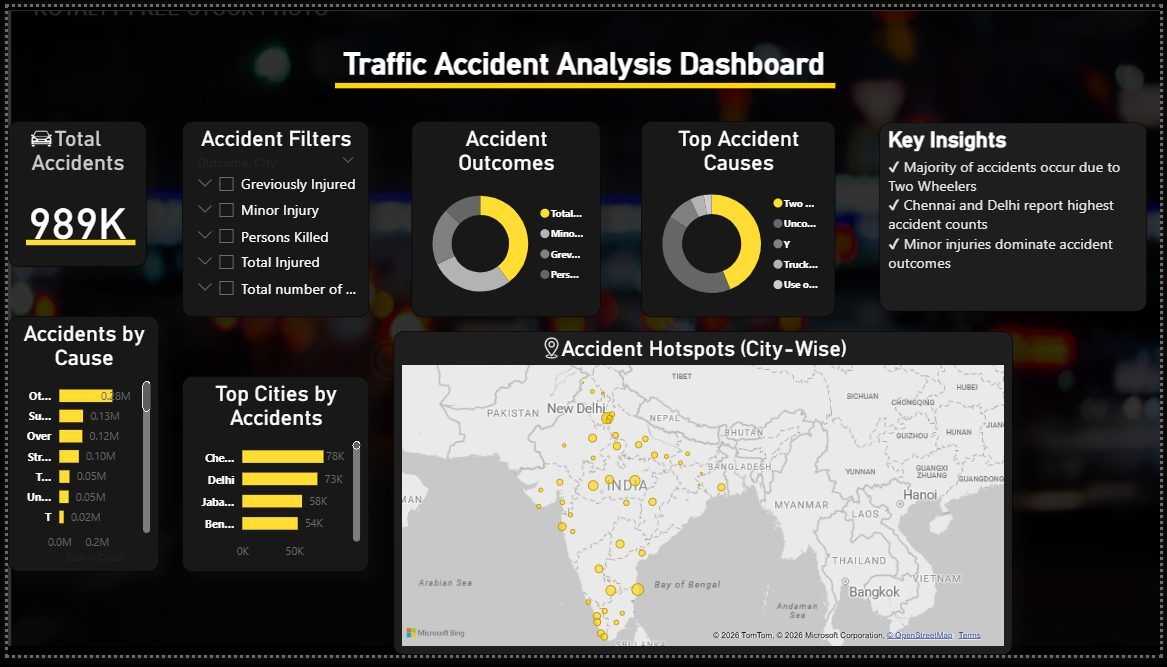

The page's visual inventory and layout, read from the dashboard file:
{"tool":"powerbi","page":{"name":"Page 1","canvas":[1280,720],"ordinal":0},"visuals":[{"type":"card","title":"Total Accidents","fields":{"Values":["Sum(df.Count)"]},"box":[0,126,154,162],"z":0},{"type":"slicer","title":"Accident Filters","fields":{"Values":["df.Outcome","df.City"]},"box":[194,126,208,218],"z":1000},{"type":"clusteredBarChart","title":"Top Cities by Accidents","fields":{"Category":["df.City"],"Y":["Sum(df.Count)"]},"box":[194,410,208,218],"z":2000},{"type":"donutChart","title":"Accident Outcomes","fields":{"Category":["df.Outcome"],"Y":["Sum(df.Count)"]},"box":[448,126,210,218],"z":3000},{"type":"clusteredBarChart","title":"Accidents by Cause","fields":{"Category":["df.Cause Subcategory"],"Y":["Sum(df.Count)"]},"box":[0,344,168,284],"z":4000},{"type":"map","title":"Accident Hotspots (City-Wise)","fields":{"Category":["df.City"],"Size":["Sum(df.Count)"]},"box":[428,360,688,360],"z":5000},{"type":"shape","box":[364,44,556,88],"z":6000},{"type":"donutChart","title":"Top Accident Causes","fields":{"Category":["df.Cause Subcategory"],"Y":["Sum(df.Count)"]},"box":[704,126,216,218],"z":7000},{"type":"image","box":[0,118.5,73.8,56.9],"z":8000},{"type":"image","box":[544.6,337.7,118.5,84.6],"z":9000},{"type":"textbox","title":"Traffic Accident Analysis Dashboard","box":[0,43.3,1280,66.7],"z":10000},{"type":"shape","box":[20,221.7,121.7,80],"z":11000},{"type":"textbox","title":"Key Insights","box":[967.5,127.5,297.5,210],"z":12000}]}

Visuals, with their boxes in screenshot pixels (x1, y1, x2, y2), scaled from the page's 1280x720 canvas onto the 1167x667 screenshot:
"Total Accidents" card: box=[0, 117, 140, 267]
"Accident Filters" slicer: box=[177, 117, 367, 319]
"Top Cities by Accidents" clusteredBarChart: box=[177, 380, 367, 582]
"Accident Outcomes" donutChart: box=[408, 117, 600, 319]
"Accidents by Cause" clusteredBarChart: box=[0, 319, 153, 582]
"Accident Hotspots (City-Wise)" map: box=[390, 334, 1017, 666]
shape: box=[332, 41, 839, 122]
"Top Accident Causes" donutChart: box=[642, 117, 839, 319]
image: box=[0, 110, 67, 162]
image: box=[497, 313, 605, 391]
"Traffic Accident Analysis Dashboard" textbox: box=[0, 40, 1166, 102]
shape: box=[18, 205, 129, 279]
"Key Insights" textbox: box=[882, 118, 1153, 313]
